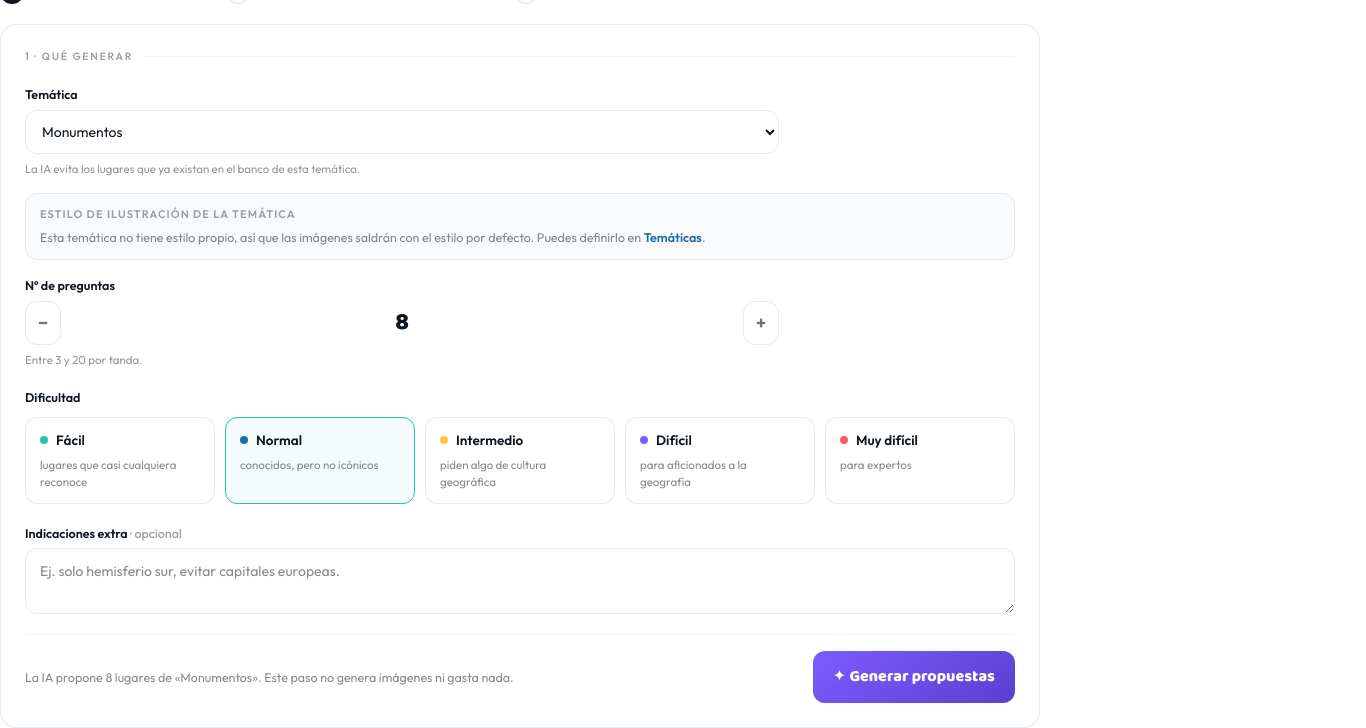
Test case: paso 2 · revisión de propuestas › muestra un candidato por fila, todos marcados
(page scrolled)
Click the button "✦ Generar propuestas" at (914, 677), box [813,651,1015,703]
(page scrolled)
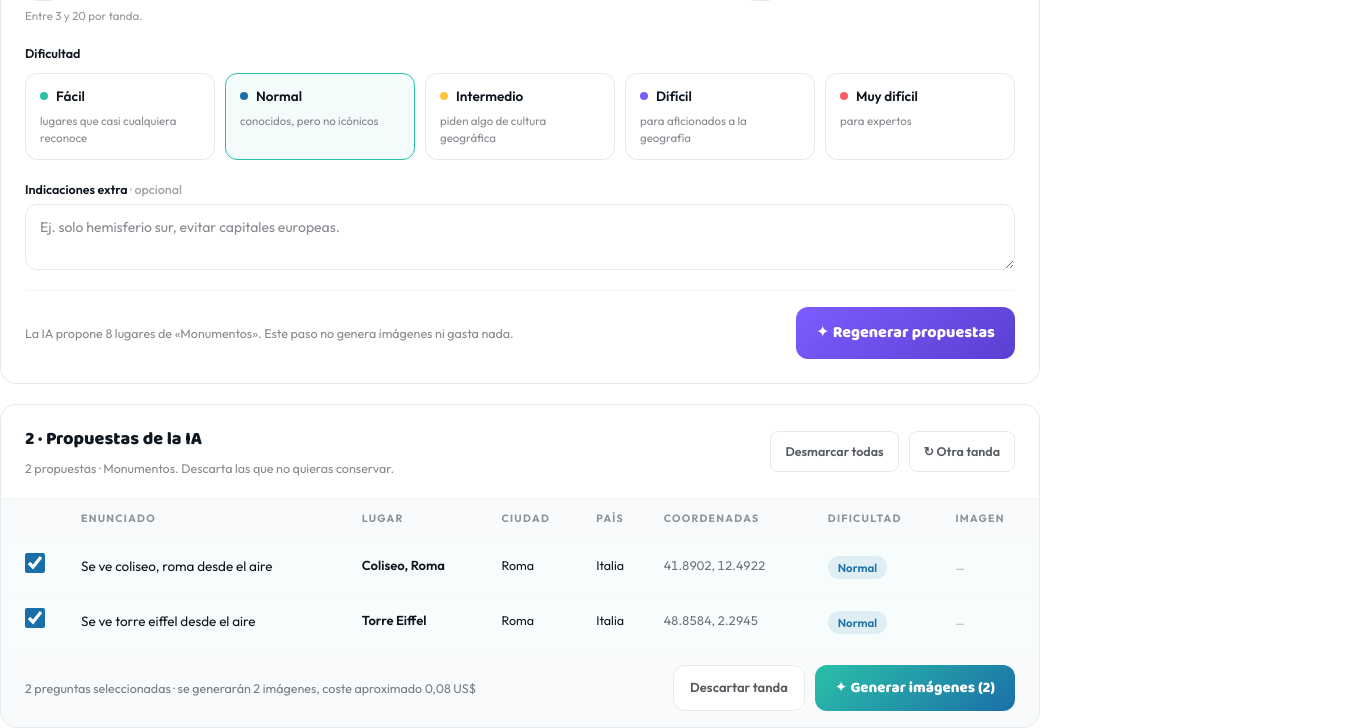
Check: the checkbox named "Conservar Coliseo, Roma" is checked, box [25,553,45,573]
Check: the text "41.8902, 12.4922" is shown, box [652,539,816,593]
Check: the text "Se ve coliseo, roma desde el aire" is shown, box [69,539,350,593]
